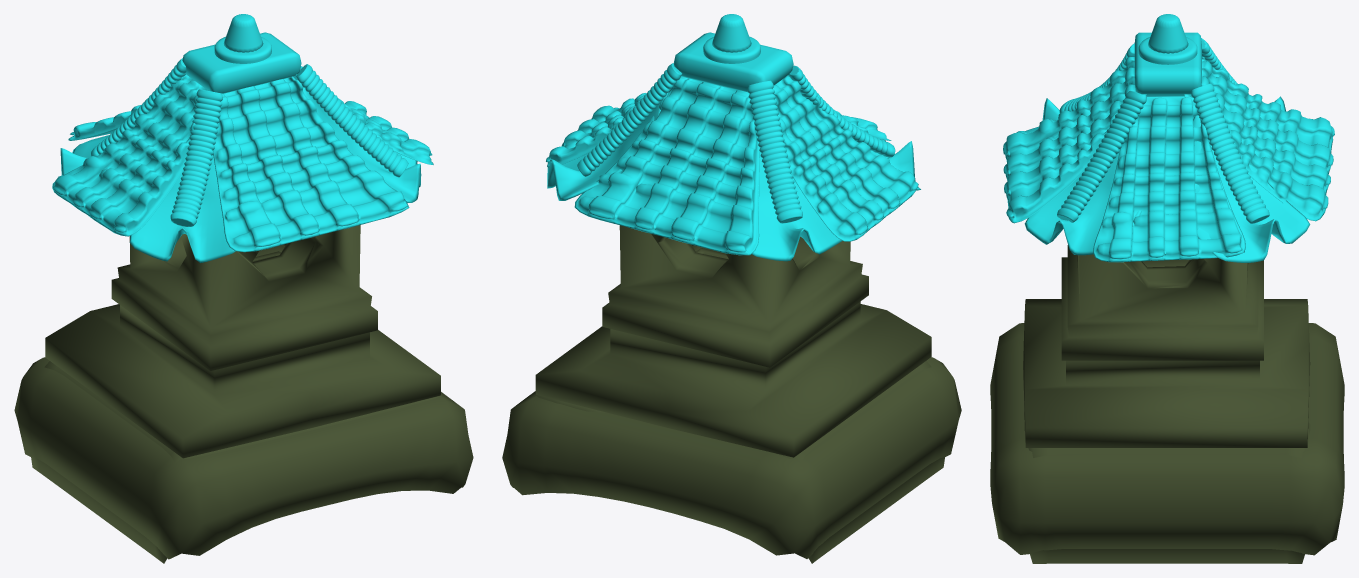
File: Pag(Unwrap).fbx
3 views of the same model, side by side, from view 1: azimuth 30°, elevation 25°; view 2: azimuth 150°, elevation 25°; view 3: azimuth 270°, elevation 25° (orthographic). The views are drawn at different scales.
Parts seen in each view (by area): view 1: Plane004; view 2: Plane004; view 3: Plane004.
Part boxes in pixels (x1=…): Plane004: x1=14, y1=14, x2=473, y2=563; Plane004: x1=502, y1=14, x2=961, y2=563; Plane004: x1=990, y1=14, x2=1344, y2=563.
Bounding box in the file's own units: 29.74 × 40.94 × 27.7.
